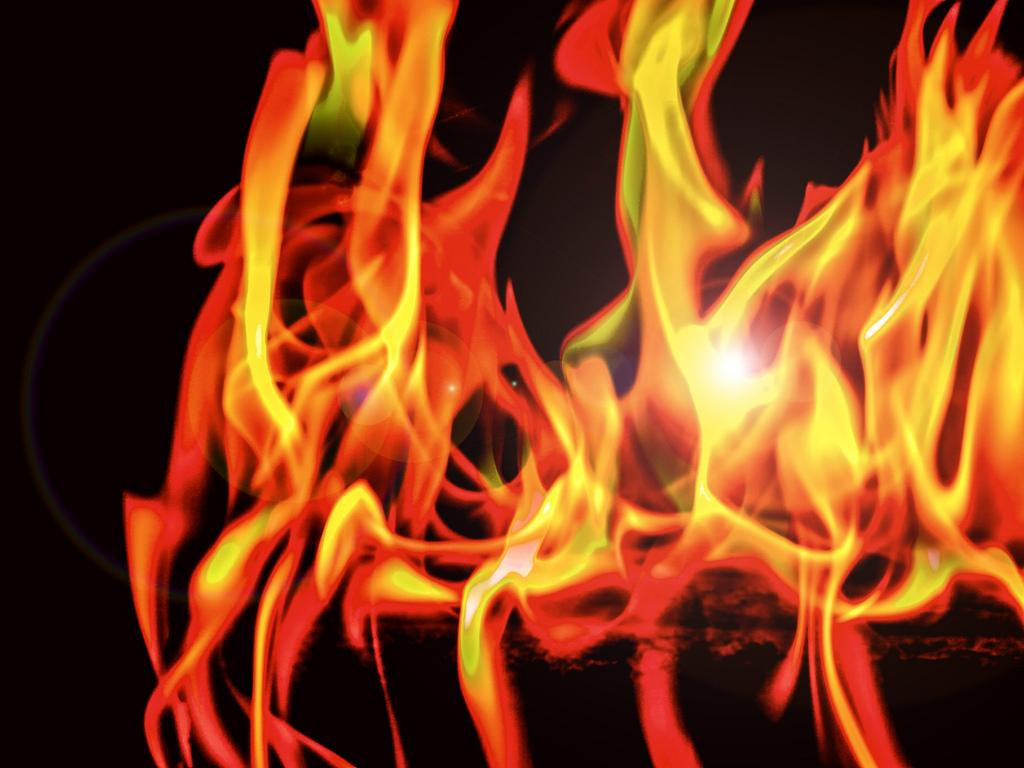fire: (208, 16, 454, 606), (626, 242, 842, 576), (882, 60, 1018, 558)
